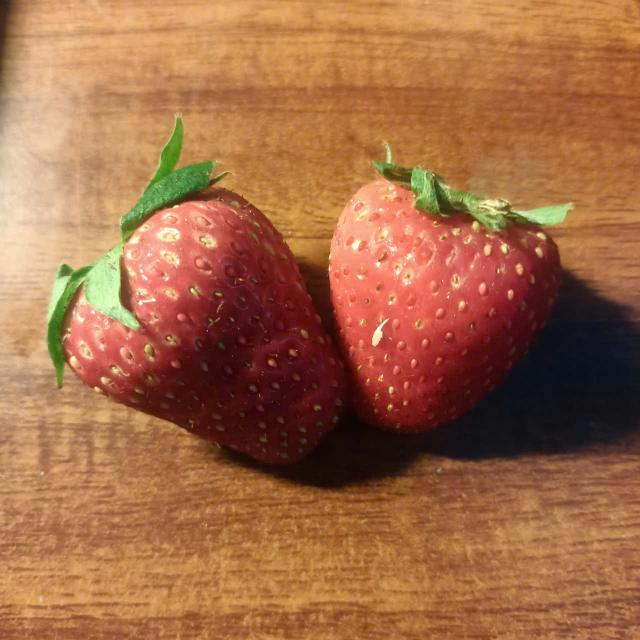DauTay: (43, 102, 353, 478), (315, 133, 610, 465)
